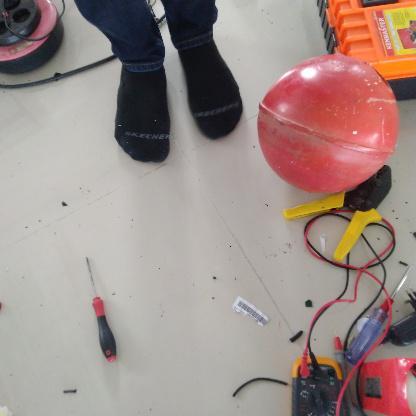red_buoy: (256, 52, 400, 196)
